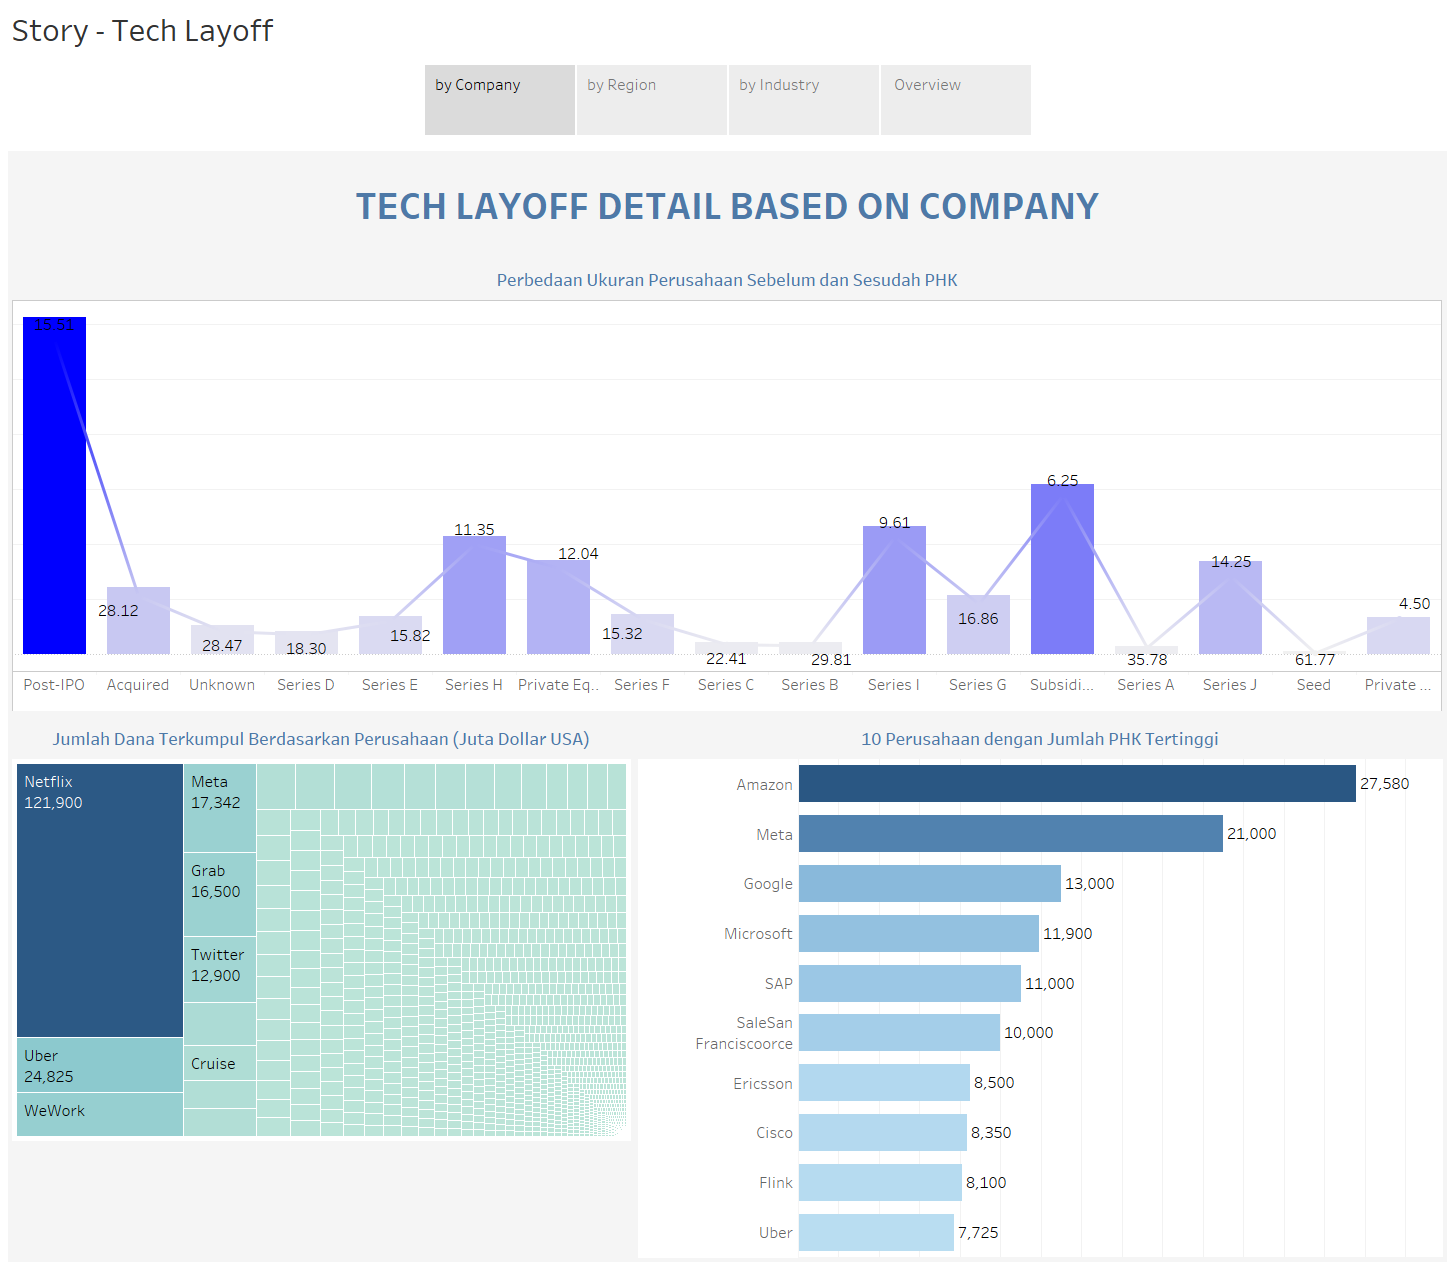

Layout of this report page (visuals, bound fields, positions):
{"tool":"tableau","page":{"name":"D1 - Company ","canvas":[1000,1000],"units":"permille","ordinal":0},"visuals":[{"type":"text","box":[0,0,1000,95.8]},{"type":"worksheet","title":"Perbedaan Ukuran Perusahaan Sebelum dan Sesudah PHK","mark":"Line","rows":["Company_Size_before_Layoffs","Company_Size_after_layoffs"],"cols":["Stage"],"box":[0,95.8,1000,413.5]},{"type":"worksheet","title":"Jumlah Dana Terkumpul Berdasarkan Perusahaan (Juta Dollar USA)","mark":"Automatic","box":[0,509.2,435.4,490.8]},{"type":"worksheet","title":"Top 10 Highest Layoff Number Company by Industry","mark":"Automatic","rows":["Company"],"cols":["Laid_Off"],"box":[435.4,509.2,564.6,490.8]}]}

Visuals, with their boxes on the dashboard's canvas, which has no fixed pixel size, in thousandths of its width and height (x1, y1, x2, y2). These are canvas units, not pixel positions in the 1454x1269 screenshot, which may show the page scaled, cropped or inside an application window:
text: <box>0,0,1000,96</box>
"Perbedaan Ukuran Perusahaan Sebelum dan Sesudah PHK" worksheet (Line marks): <box>0,96,1000,509</box>
"Jumlah Dana Terkumpul Berdasarkan Perusahaan (Juta Dollar USA)" worksheet: <box>0,509,435,1000</box>
"Top 10 Highest Layoff Number Company by Industry" worksheet: <box>435,509,1000,1000</box>
